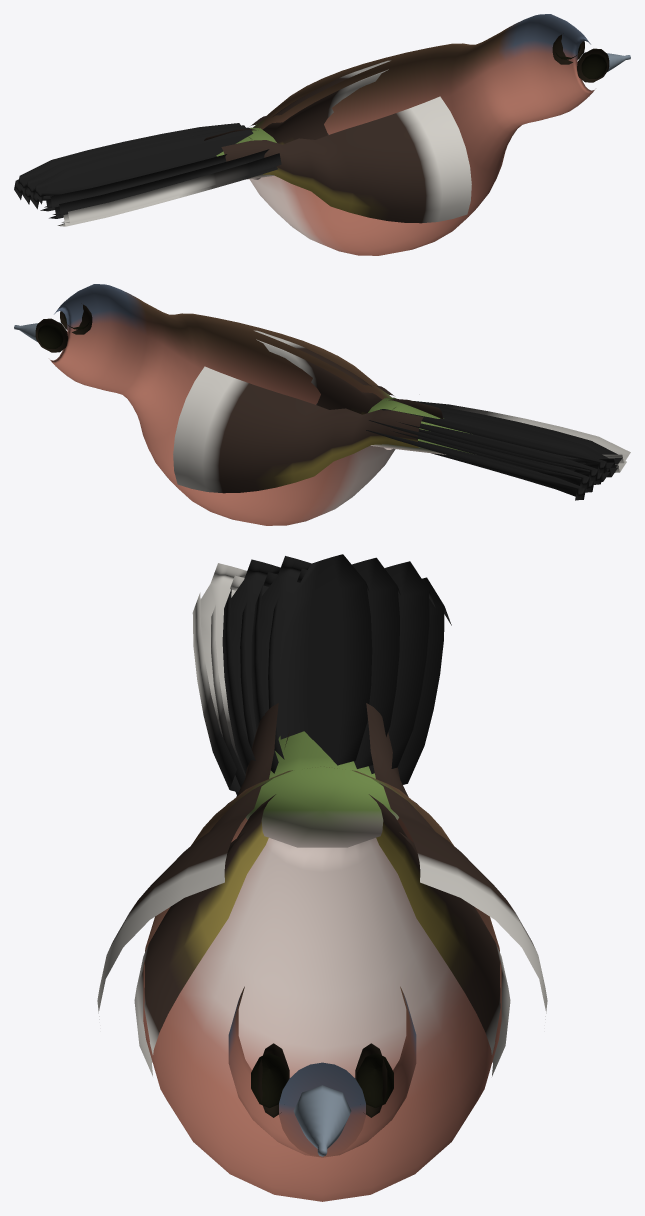
Rendered from SM_Bird_chaffinch_closed.glb.
3 renders of one model, top to bottom at view 1: azimuth 30°, elevation 25°; view 2: azimuth 150°, elevation 25°; view 3: azimuth 270°, elevation 25°, orthographic. The views are drawn at different scales.
Visible parts, largest first — view 1: SM_Bird_chaffinch_closed; view 2: SM_Bird_chaffinch_closed; view 3: SM_Bird_chaffinch_closed.
Boxes of the visible parts, x1,y1,x2,y2 form: SM_Bird_chaffinch_closed: (14, 14, 630, 255); SM_Bird_chaffinch_closed: (14, 284, 630, 525); SM_Bird_chaffinch_closed: (97, 554, 547, 1201).
Bounding box in the file's own units: 0.1714 × 0.0529 × 0.0567.
